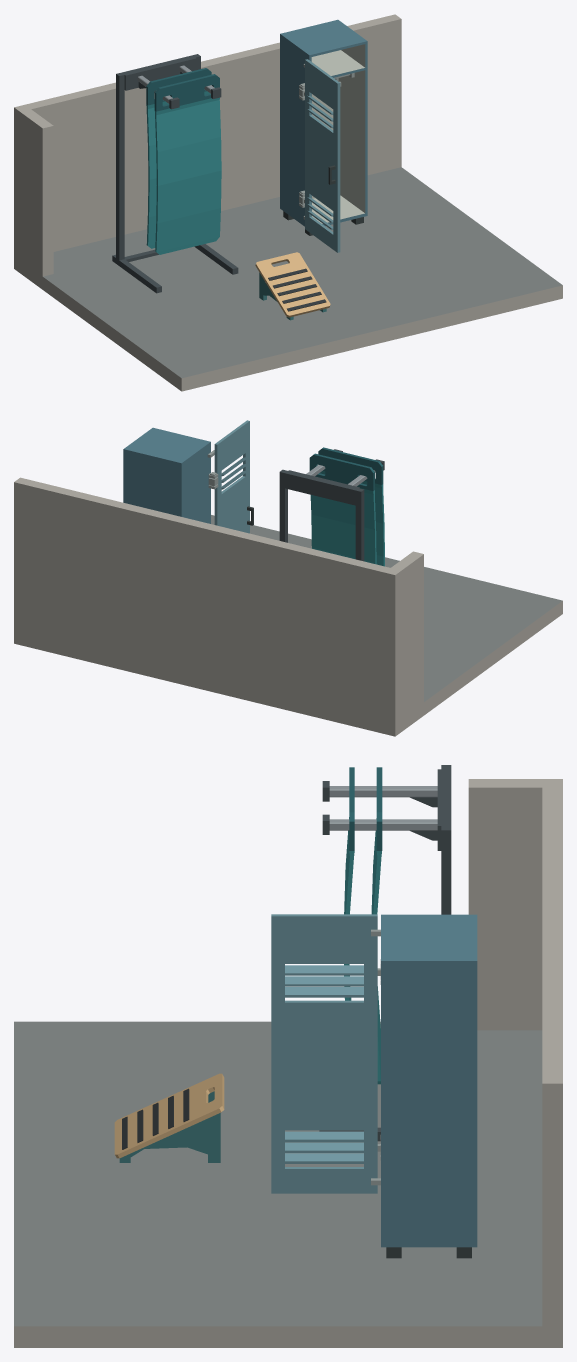
3 renders of one model, top to bottom at view 1: azimuth 30°, elevation 25°; view 2: azimuth 150°, elevation 25°; view 3: azimuth 270°, elevation 25°, orthographic. The views are drawn at different scales.
Visible parts, largest first — view 1: SCENE_ONLY__StretchFloorAndCutawayWalls, locker__ContinuousFullHeightLongChamberShell, mats__FrontWholeTwoHoleMat, locker__FixedOpenThickLouverDoor, board__ThickPiercedInclinedDeck, mats__RearWholeTwoHoleMat, mats__LeftRearUpright, mats__UpperCrossbeam, mats__LeftGroundRunner; view 2: SCENE_ONLY__StretchFloorAndCutawayWalls, locker__ContinuousFullHeightLongChamberShell, mats__RearWholeTwoHoleMat, locker__FixedOpenThickLouverDoor, mats__FrontWholeTwoHoleMat, mats__UpperCrossbeam, mats__LeftRearUpright, mats__RightRearUpright; view 3: SCENE_ONLY__StretchFloorAndCutawayWalls, locker__ContinuousFullHeightLongChamberShell, locker__FixedOpenThickLouverDoor, board__ThickPiercedInclinedDeck, board__RightWholeArchedCheek, mats__RearWholeTwoHoleMat, mats__RightLongParallelPeg, mats__LeftLongParallelPeg, mats__FrontWholeTwoHoleMat, mats__UpperCrossbeam, mats__RightRearUpright, locker__Window_1_OutwardSlopedLouver_3 (+5 smaller).
Part boxes in pixels (x1,y1,x2,y2): SCENE_ONLY__StretchFloorAndCutawayWalls: (14,14,562,391); locker__ContinuousFullHeightLongChamberShell: (280,19,367,226); mats__FrontWholeTwoHoleMat: (154,74,221,254); locker__FixedOpenThickLouverDoor: (305,59,340,252); board__ThickPiercedInclinedDeck: (255,252,330,317); mats__RearWholeTwoHoleMat: (146,68,211,248); mats__LeftRearUpright: (116,72,124,260); mats__UpperCrossbeam: (122,55,196,90); mats__LeftGroundRunner: (112,254,161,293); SCENE_ONLY__StretchFloorAndCutawayWalls: (14,477,562,736); locker__ContinuousFullHeightLongChamberShell: (123,427,210,523); mats__RearWholeTwoHoleMat: (309,453,376,564); locker__FixedOpenThickLouverDoor: (214,420,249,533); mats__FrontWholeTwoHoleMat: (318,447,384,566); mats__UpperCrossbeam: (285,470,359,505); mats__LeftRearUpright: (355,488,364,561); mats__RightRearUpright: (279,469,287,542); SCENE_ONLY__StretchFloorAndCutawayWalls: (14,779,562,1347); locker__ContinuousFullHeightLongChamberShell: (381,914,477,1247); locker__FixedOpenThickLouverDoor: (271,914,377,1193); board__ThickPiercedInclinedDeck: (114,1073,224,1158); board__RightWholeArchedCheek: (119,1113,220,1162); mats__RearWholeTwoHoleMat: (371,767,382,1084); mats__RightLongParallelPeg: (329,819,437,830); mats__LeftLongParallelPeg: (329,786,437,797); mats__FrontWholeTwoHoleMat: (344,767,354,1000); mats__UpperCrossbeam: (437,769,451,850); mats__RightRearUpright: (441,826,451,914); locker__Window_1_OutwardSlopedLouver_3: (285,1131,363,1142).
Size of the model in its own units: 4.2 by 2.19 by 3.2.
